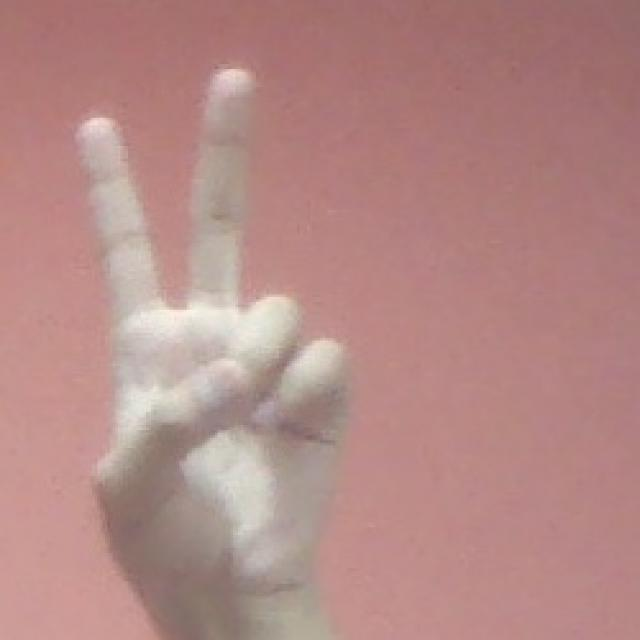Numeric-2: (75, 58, 357, 607)
